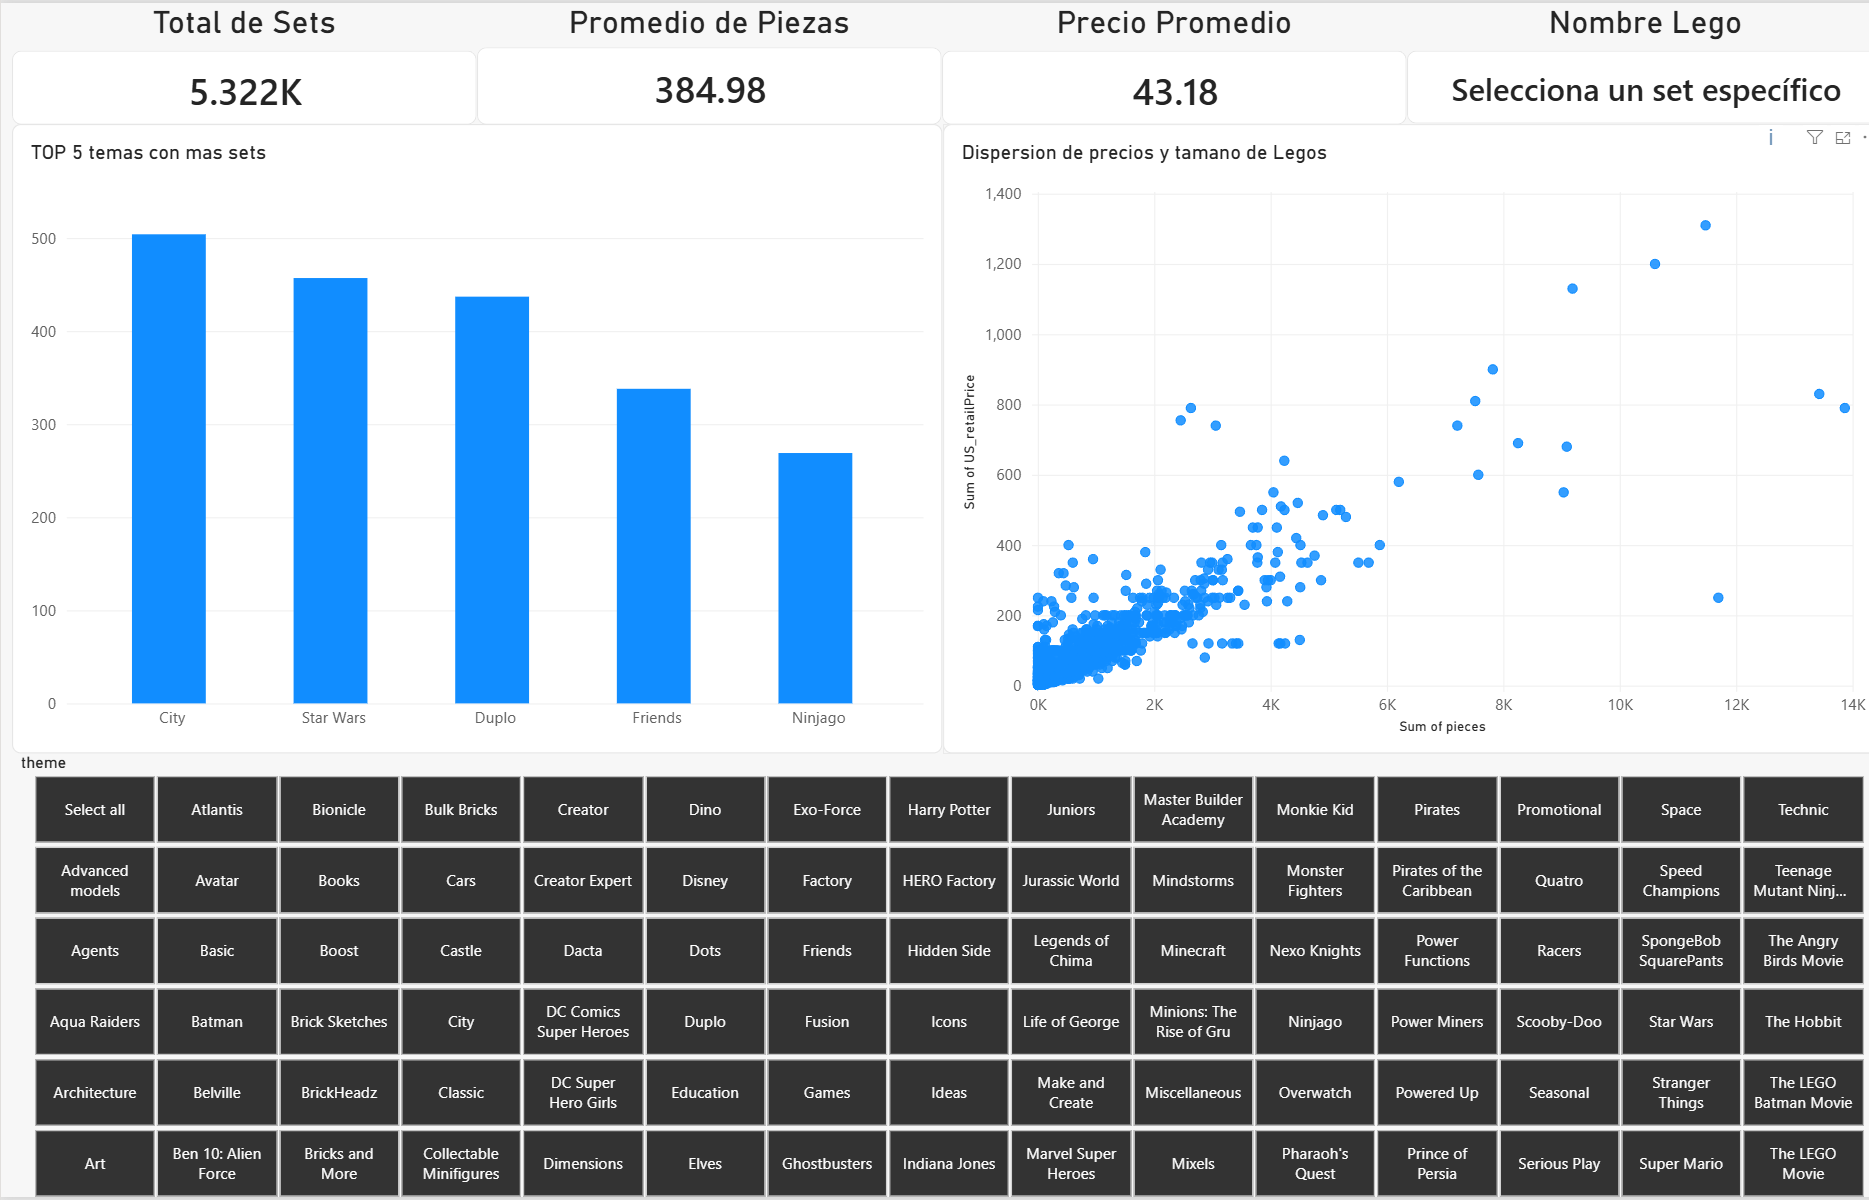

This screenshot's page, from the dashboard's own definition file:
{"tool":"powerbi","page":{"name":"Page 1","canvas":[1920,1080],"ordinal":0},"visuals":[{"type":"cardVisual","title":"Total de Sets","fields":{"Data":["CountNonNull(lego_sets_clean.set_id)"]},"box":[10,0,420.2,110.5],"z":0},{"type":"cardVisual","title":"Precio Promedio","fields":{"Data":["Avg(lego_sets_clean.US_retailPrice)"]},"box":[850.4,0,420.2,110.5],"z":1000},{"type":"cardVisual","title":"Promedio de Piezas","fields":{"Data":["Avg(lego_sets_clean.pieces)"]},"box":[430.2,0,420.2,110.5],"z":2000},{"type":"columnChart","title":"TOP 5 temas con mas sets","fields":{"Category":["lego_sets_clean.theme"],"Y":["CountNonNull(lego_sets_clean.name)"]},"box":[9.8,109.8,841.3,568.7],"z":3000},{"type":"scatterChart","title":"Dispersion de precios y tamano de Legos","fields":{"Category":["lego_sets_clean.name"],"X":["Sum(lego_sets_clean.pieces)"],"Y":["Sum(lego_sets_clean.US_retailPrice)"]},"box":[851.2,109.8,851.2,568.7],"z":3001},{"type":"slicer","fields":{"Values":["lego_sets_clean.theme"]},"box":[9.8,678.6,1692.5,402],"z":3002},{"type":"cardVisual","title":"Nombre Lego","fields":{"Data":["lego_sets_clean.Nombre_Set_Mostrado"]},"box":[1270.8,0,431.5,109.8],"z":3003}]}

Visuals, with their boxes on the page's 1920x1080 design canvas (x1, y1, x2, y2). These are canvas units, not pixel positions in the 1869x1200 screenshot, which may show the page scaled, cropped or inside an application window:
"Total de Sets" cardVisual: box(10, 0, 430, 110)
"Precio Promedio" cardVisual: box(850, 0, 1271, 110)
"Promedio de Piezas" cardVisual: box(430, 0, 850, 110)
"TOP 5 temas con mas sets" columnChart: box(10, 110, 851, 678)
"Dispersion de precios y tamano de Legos" scatterChart: box(851, 110, 1702, 678)
slicer - lego_sets_clean.theme: box(10, 679, 1702, 1081)
"Nombre Lego" cardVisual: box(1271, 0, 1702, 110)
